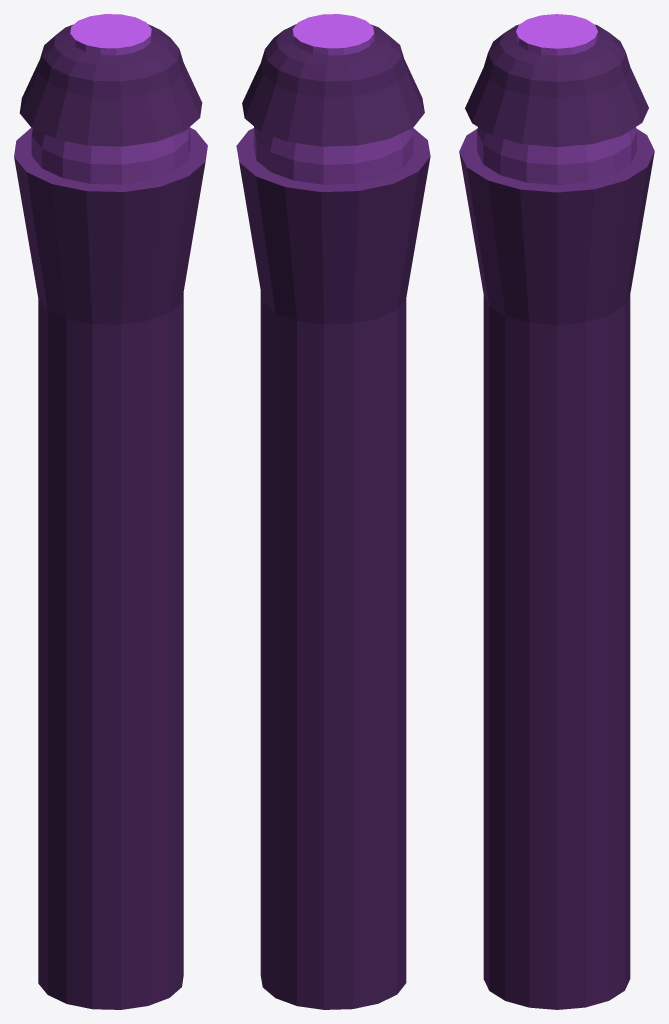
Rendered from centerObject.glb.
3 renders of one model, left to right at view 1: azimuth 30°, elevation 25°; view 2: azimuth 150°, elevation 25°; view 3: azimuth 270°, elevation 25°, orthographic.
Parts seen in each view (by area): view 1: centerHere; view 2: centerHere; view 3: centerHere.
Boxes of the visible parts, x1,y1,x2,y2 form: centerHere: [14, 14, 207, 1009]; centerHere: [236, 14, 430, 1009]; centerHere: [459, 14, 654, 1009].
Size of the model in its own units: 0.3826 by 2.04 by 0.3826.
Materials: 1 (1 with a texture image).
